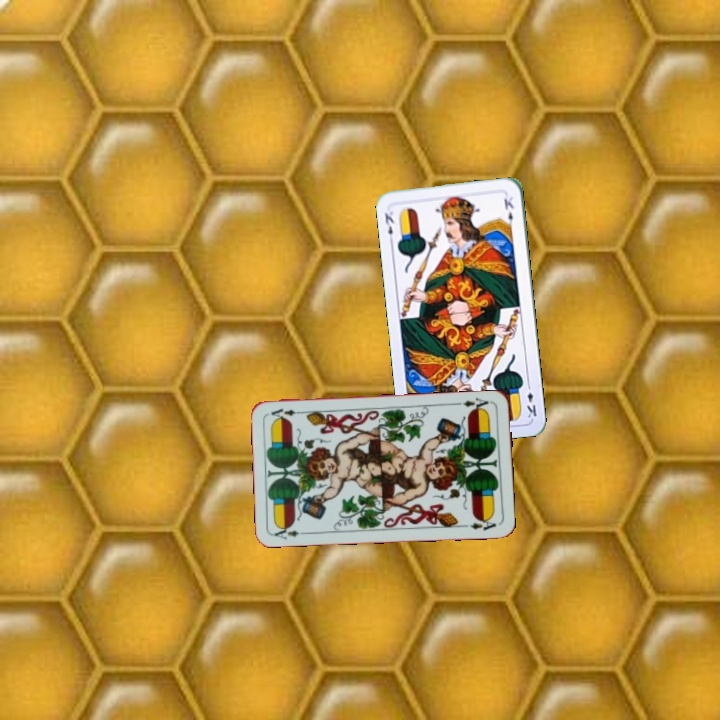EA: (270, 522, 310, 542), (459, 394, 494, 414)
EK: (522, 379, 539, 420), (381, 204, 397, 245)
